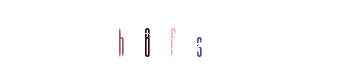8: (111, 0, 191, 80)
F: (115, 0, 195, 80)
H: (107, 0, 187, 80)
S: (130, 0, 210, 80)
